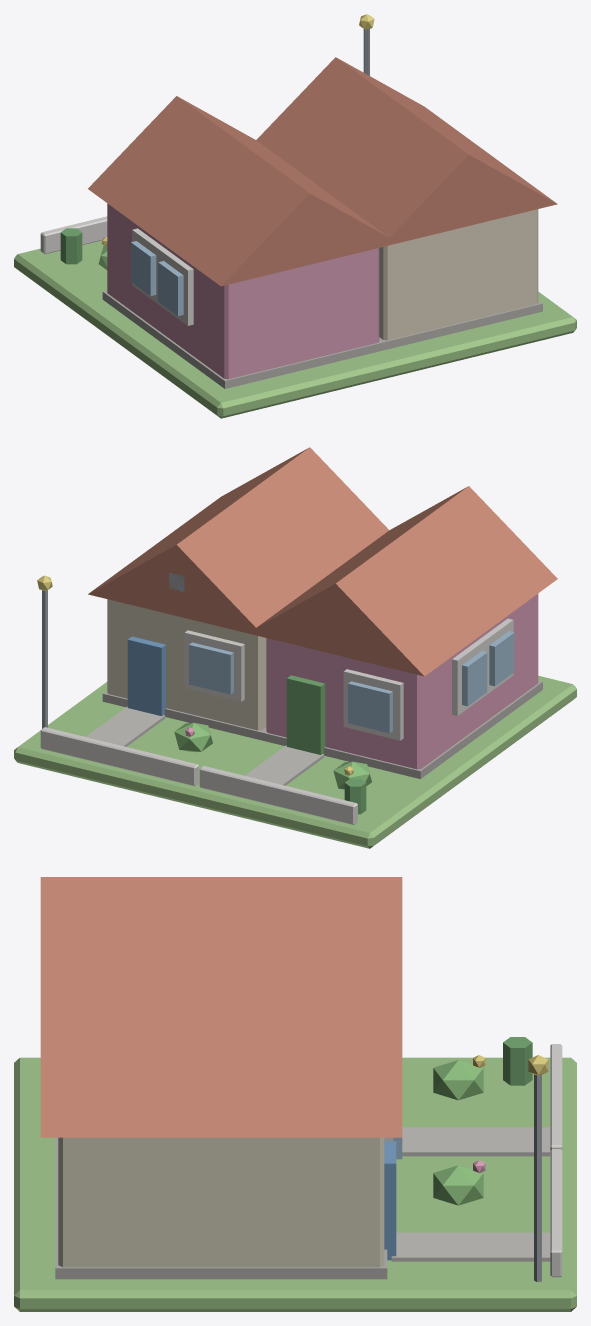
Rendered from residencial__casas_geminadas.glb.
3 renders of one model, top to bottom at view 1: azimuth 30°, elevation 25°; view 2: azimuth 150°, elevation 25°; view 3: azimuth 270°, elevation 25°, orthographic. The views are drawn at different scales.
Visible parts, largest first — view 1: residencial__casas_geminadas; view 2: residencial__casas_geminadas; view 3: residencial__casas_geminadas.
Part boxes in pixels (x1=…): residencial__casas_geminadas: x1=14, y1=14, x2=576, y2=418; residencial__casas_geminadas: x1=14, y1=447, x2=576, y2=848; residencial__casas_geminadas: x1=14, y1=877, x2=576, y2=1311.
Bounding box in the file's own units: 1.9 × 0.99 × 1.9.
